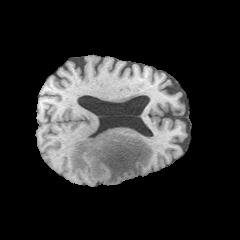glioma: (69, 130, 151, 183)
